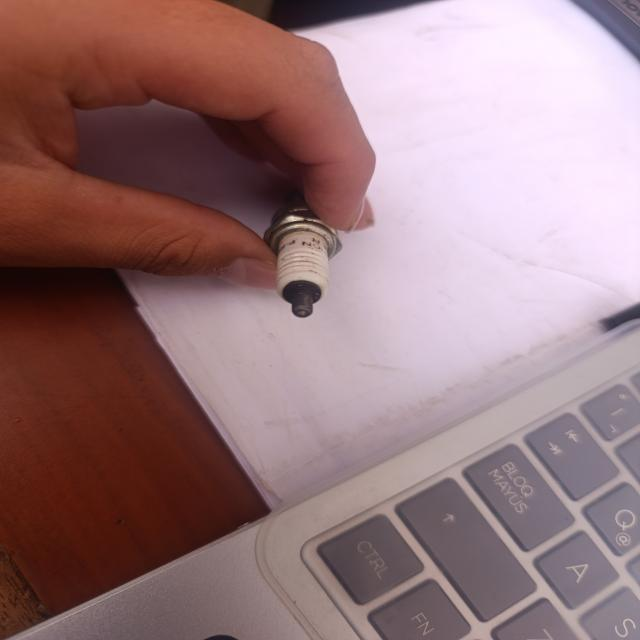bujia: (264, 192, 341, 317)
